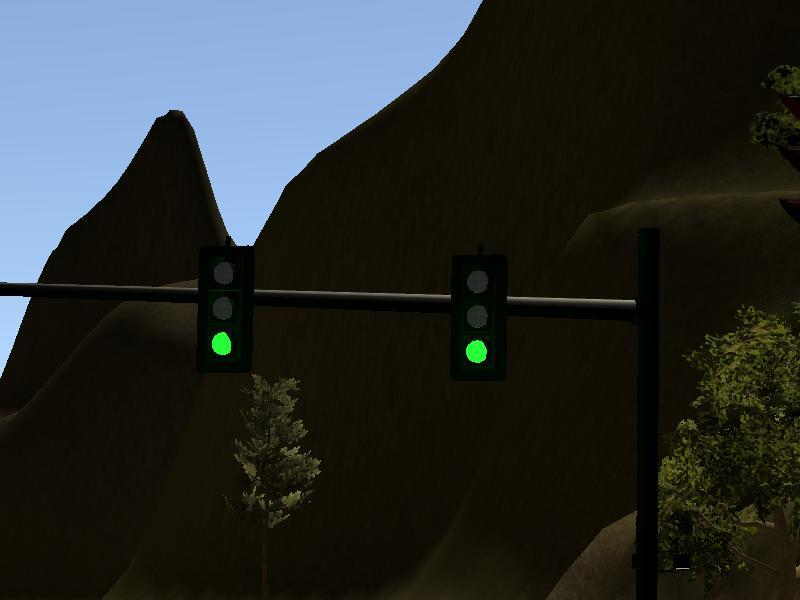Green: (196, 246, 253, 374), (450, 255, 507, 383)
